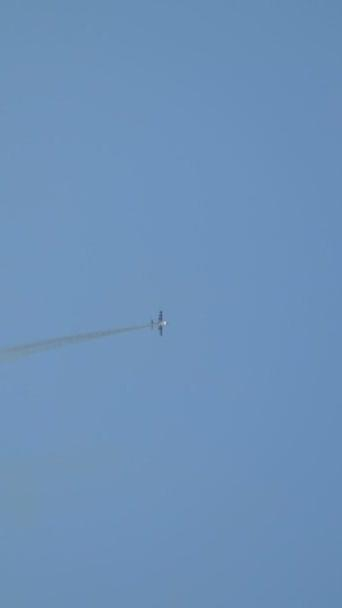Plane: (144, 300, 173, 349)
